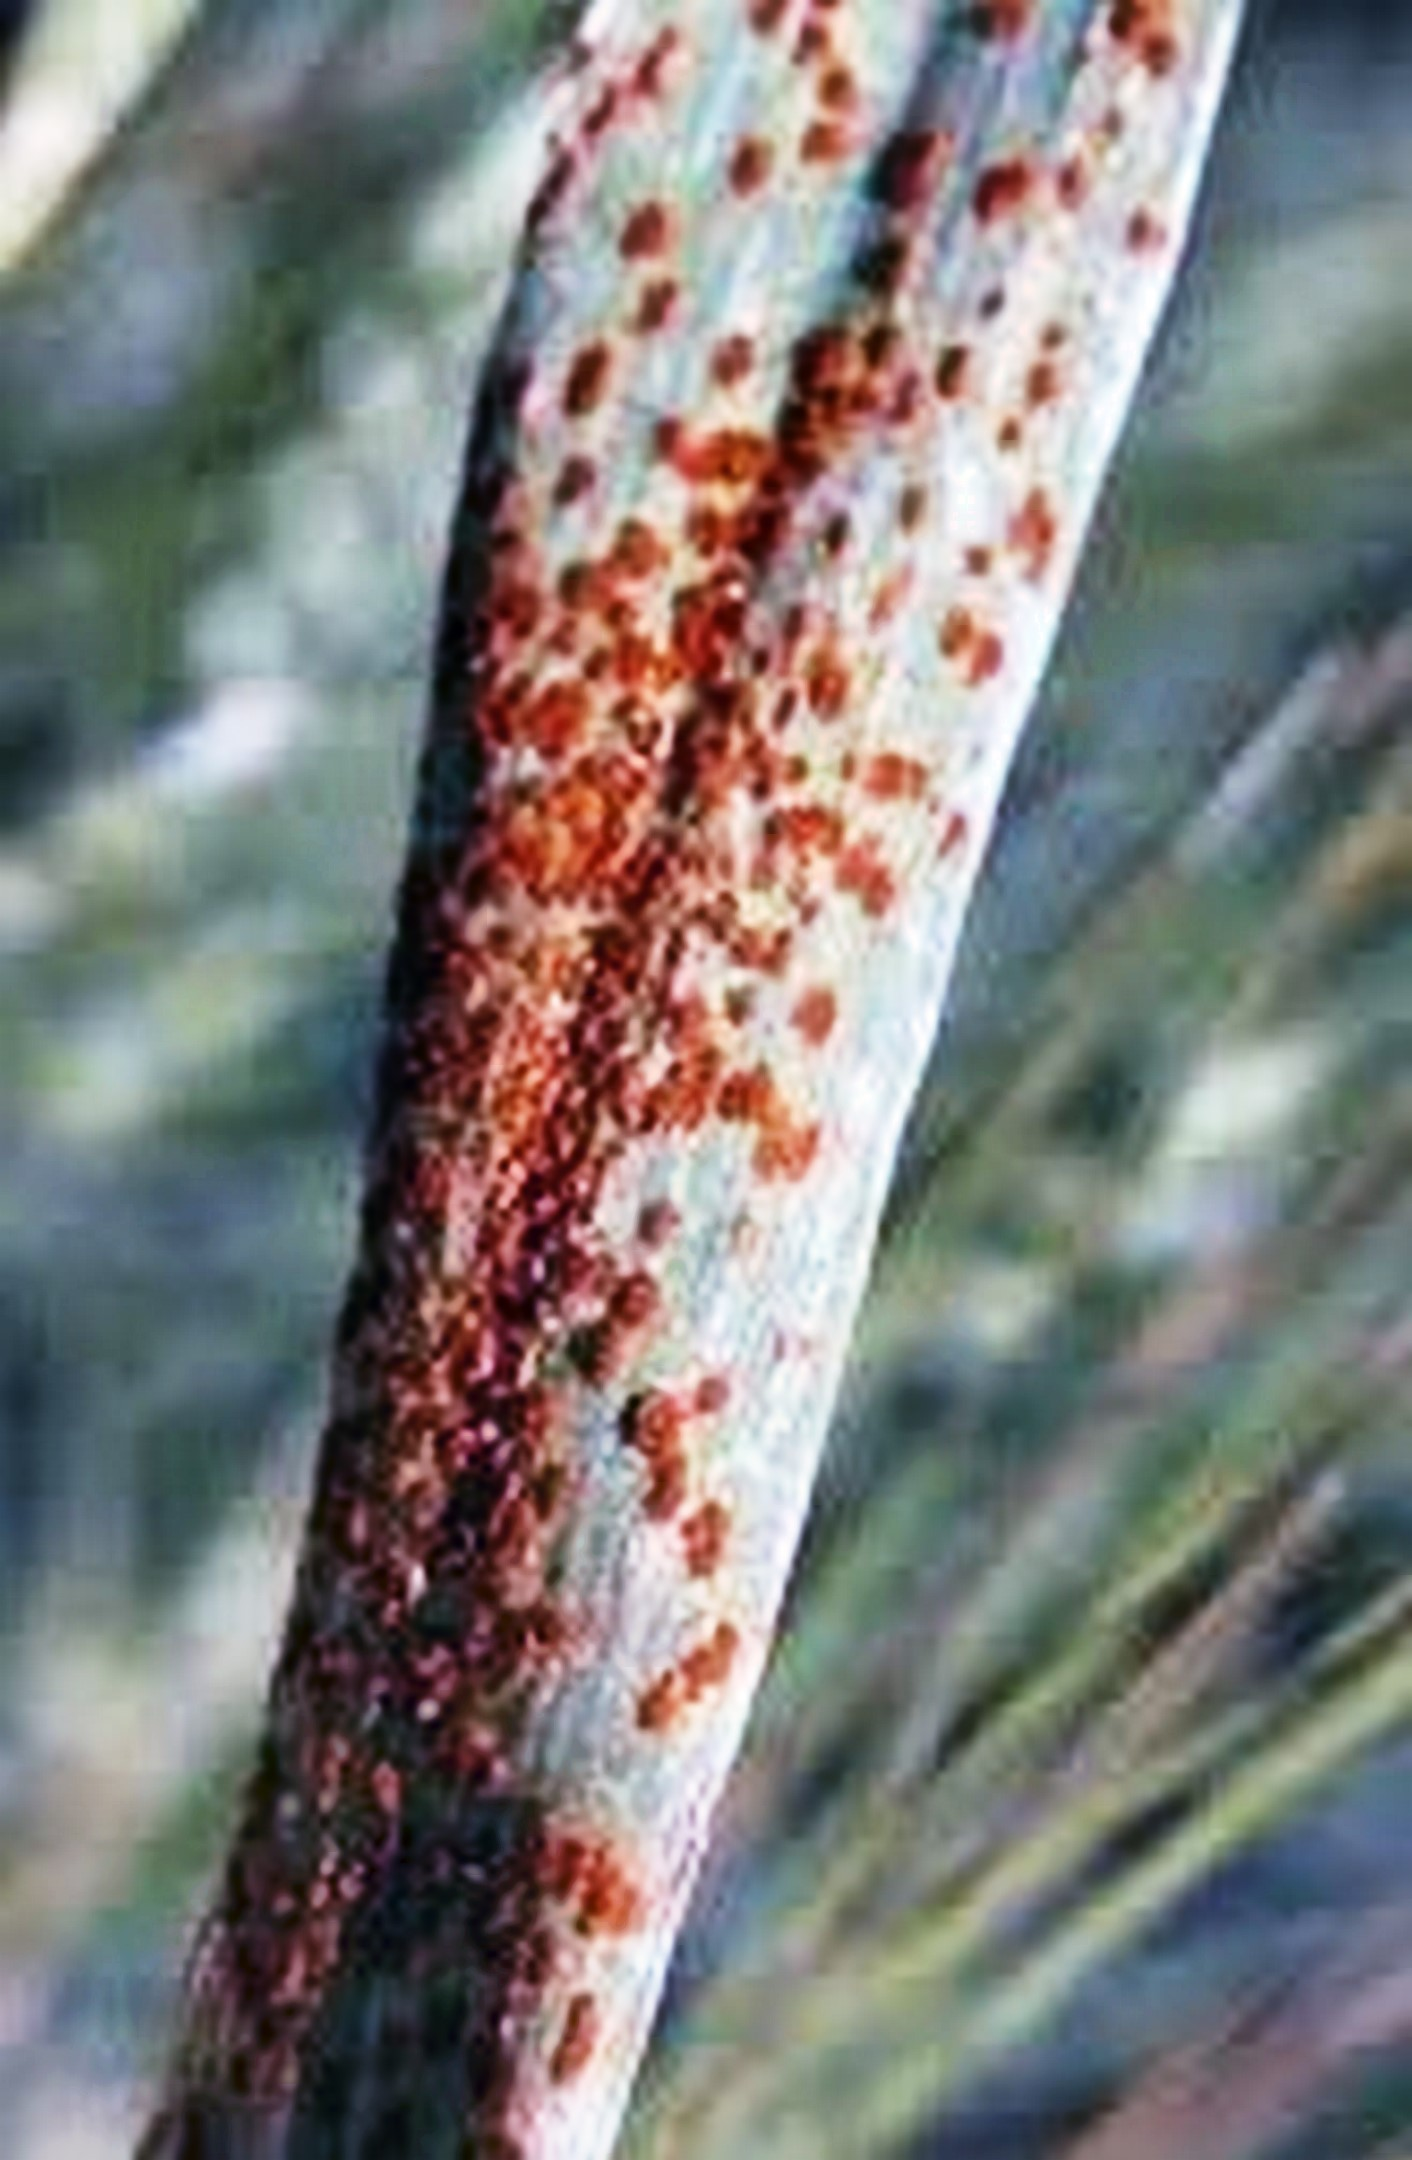Leaf Rust: (389, 80, 1235, 1810)
